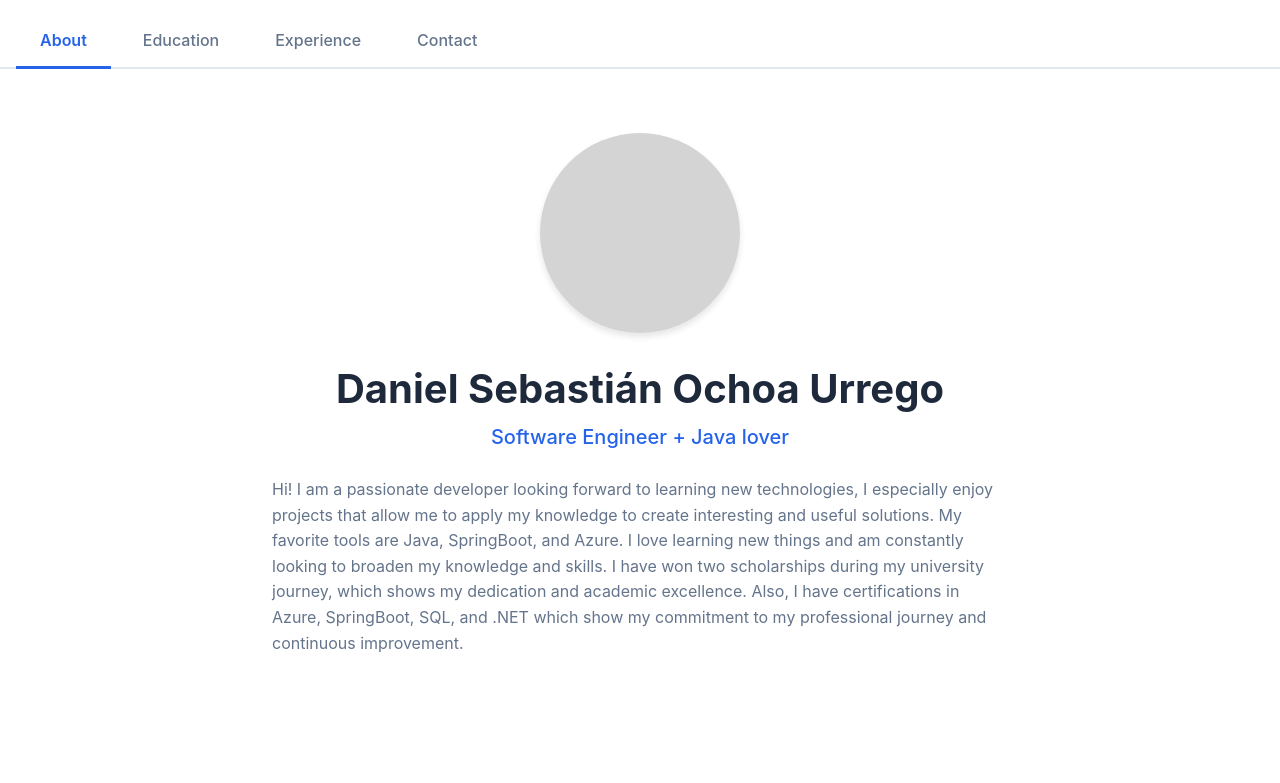
it: App - Integration Tests › updates displayed content when clicking tab navigation
Expected: the heading "Daniel Sebastián Ochoa Urrego" is shown, 336,364 -> 944,413
Expected: the text "Systems Engineer" is not shown
# Click on Academic tab
Click the tab "Education": (181, 42) 119,14 -> 243,69
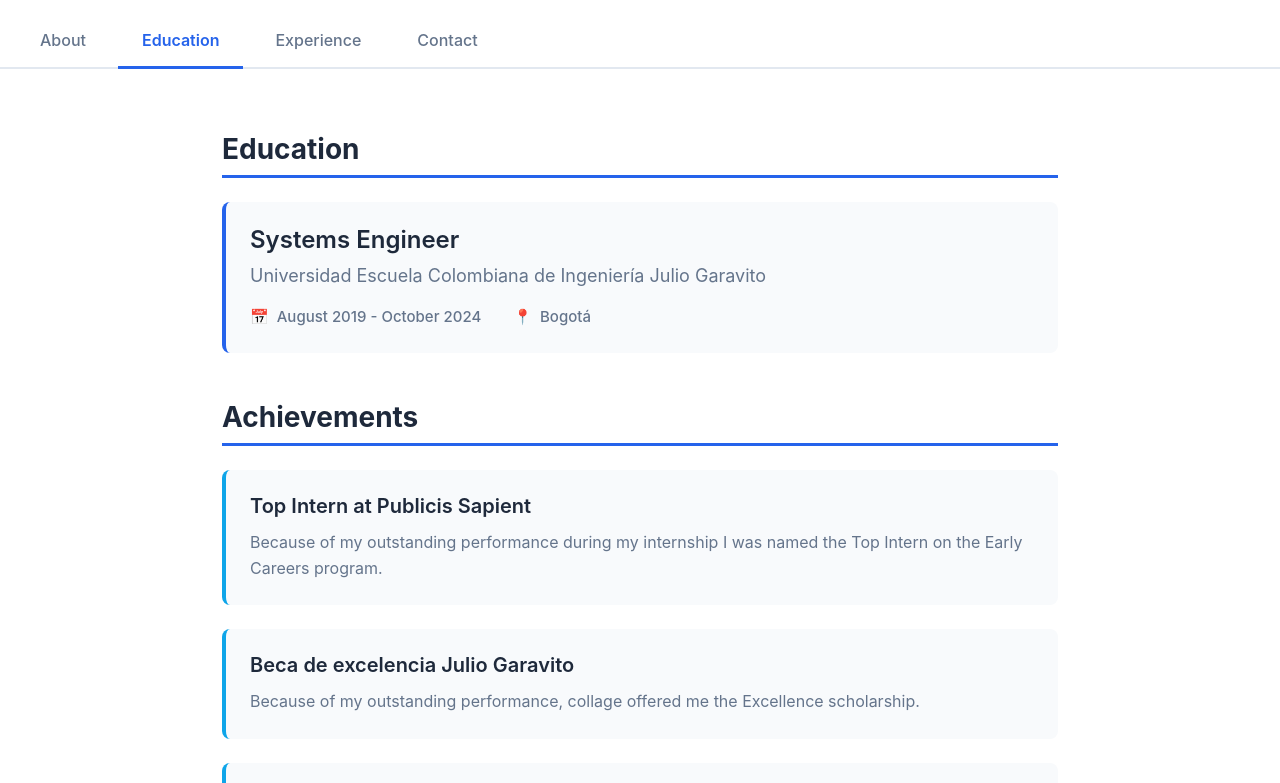
Now the heading "Systems Engineer" is shown, box 250,225 -> 459,254
Now the heading "Daniel Sebastián Ochoa Urrego" is gone
# Click on Experience tab
Click the tab "Experience": (318, 42) 252,14 -> 385,69
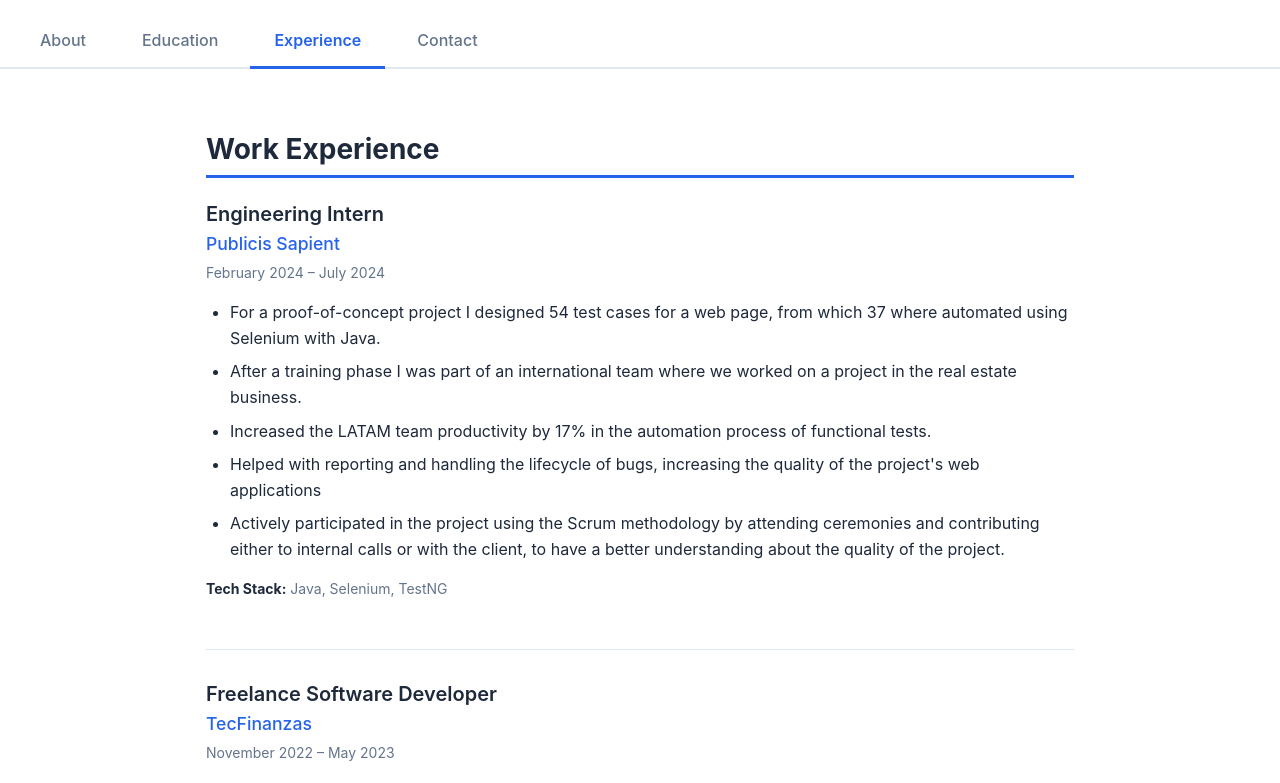
Now the text "Publicis Sapient" is shown, box 206,233 -> 340,254
Now the heading "Systems Engineer" is gone
# Click on Contact tab
Click the tab "Contact": (447, 42) 393,14 -> 502,69
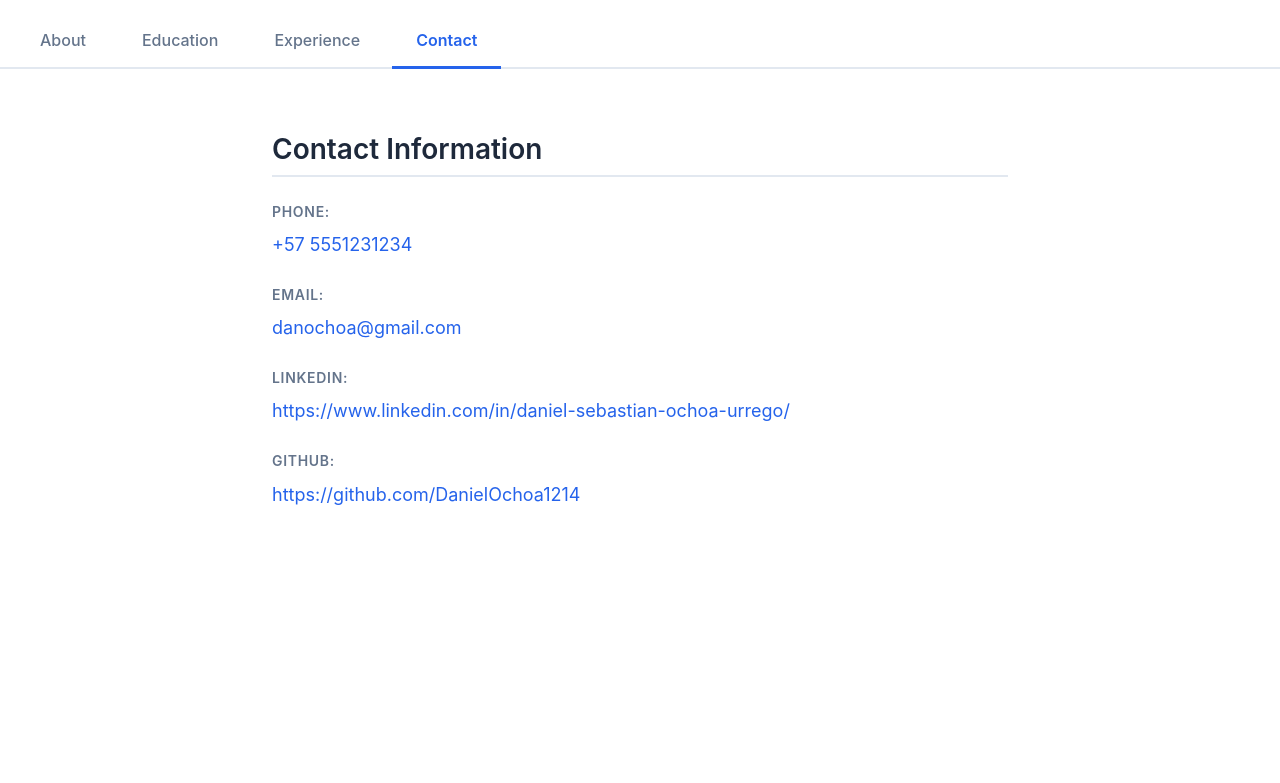
Now the link "danochoa@gmail.com" is shown, box 272,317 -> 462,338
Now the text "Publicis Sapient" is gone
# Click back to Hero tab
Click the tab "About": (63, 42) 16,14 -> 110,69
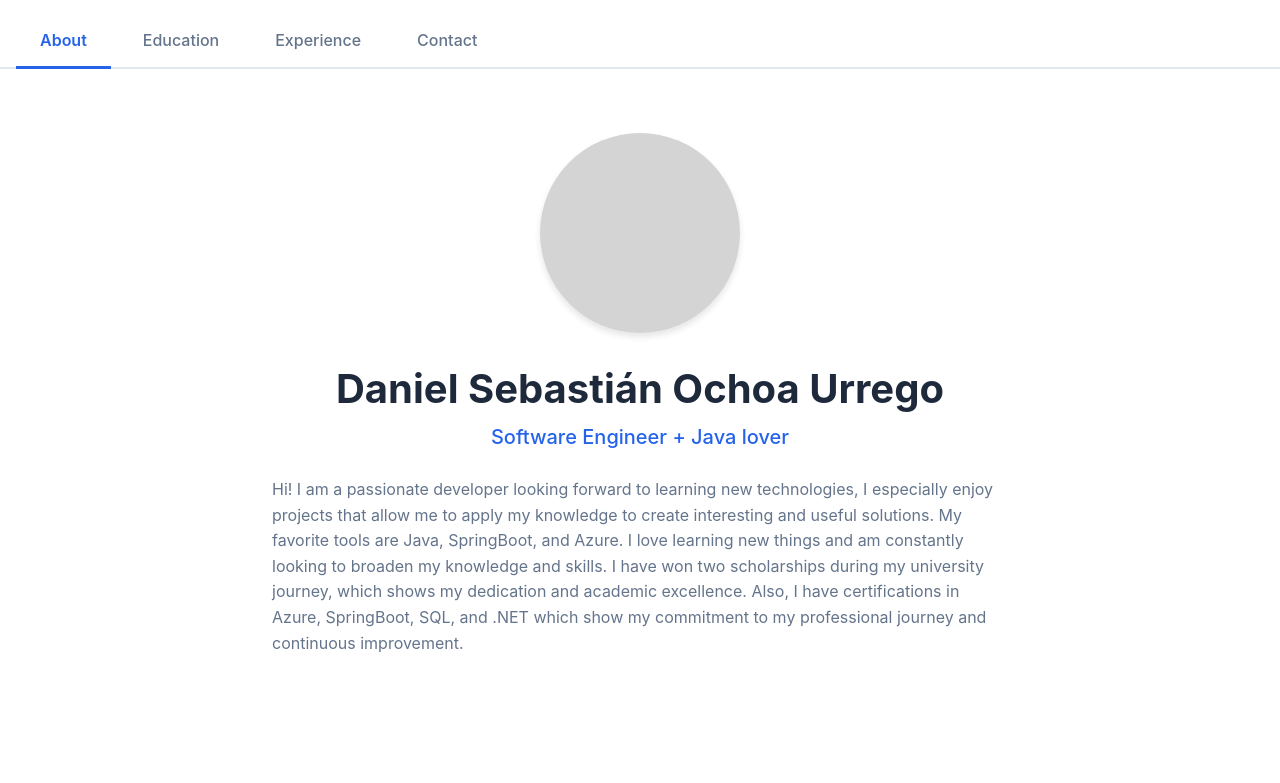
Now the heading "Daniel Sebastián Ochoa Urrego" is shown, box 336,364 -> 944,413
Now the link "danochoa@gmail.com" is gone
